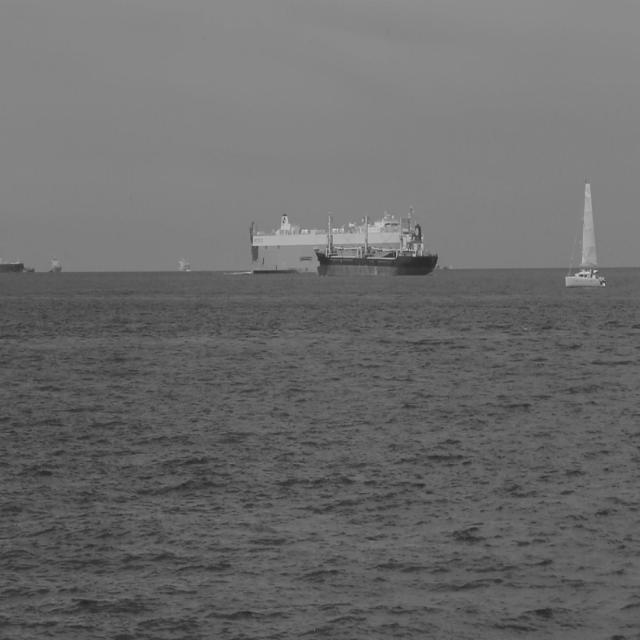ship: (248, 210, 402, 276), (314, 203, 440, 278), (564, 177, 606, 289), (0, 256, 25, 274), (176, 253, 192, 274), (47, 254, 63, 274), (23, 264, 35, 274)
